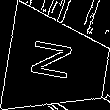N_E: (31, 40, 84, 89)
